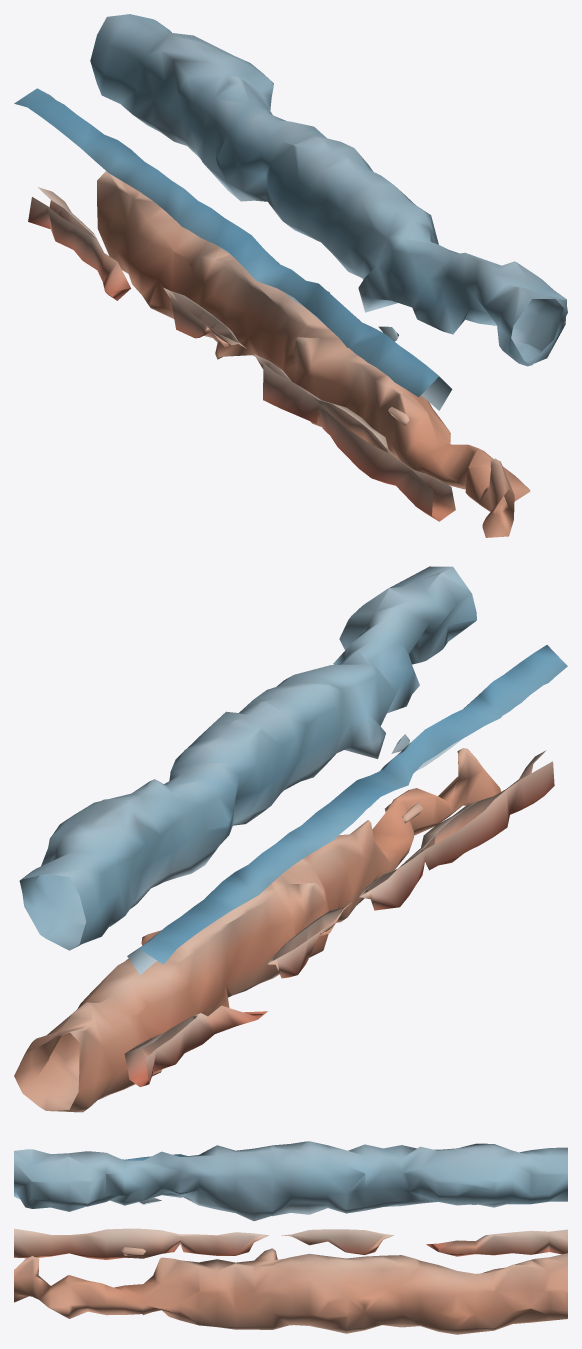
The picture shows the model from 3 angles, top to bottom: view 1: azimuth 30°, elevation 25°; view 2: azimuth 150°, elevation 25°; view 3: azimuth 270°, elevation 25°; orthographic projection. The views are drawn at different scales.
Size of the model in its own units: 0.6276 by 0.9105 by 2.5.
